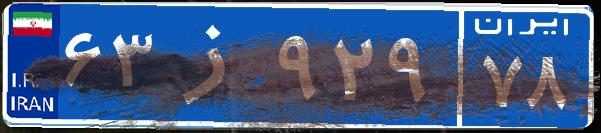2: (330, 28, 385, 110)
3: (110, 28, 158, 105)
6: (57, 26, 110, 107)
7: (475, 38, 525, 113)
8: (525, 38, 570, 115)
9: (385, 28, 445, 110), (273, 28, 330, 110)
ز: (158, 15, 273, 115)
